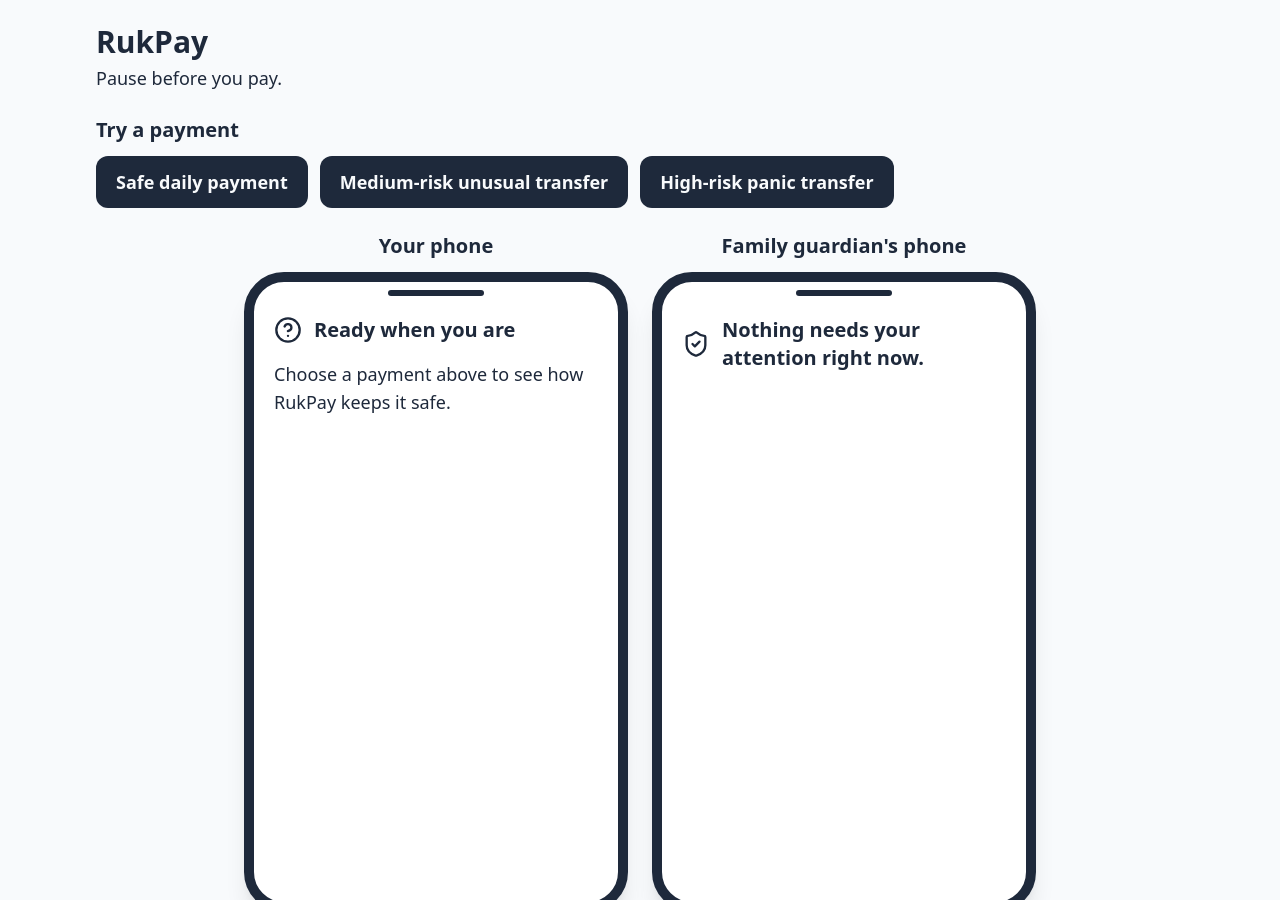
Test: App presets › the safe daily payment › shows the payee as a label and a masked identifier, and the amount in rupees
Click the button "Safe daily payment": (202, 182) [96,156,308,208]
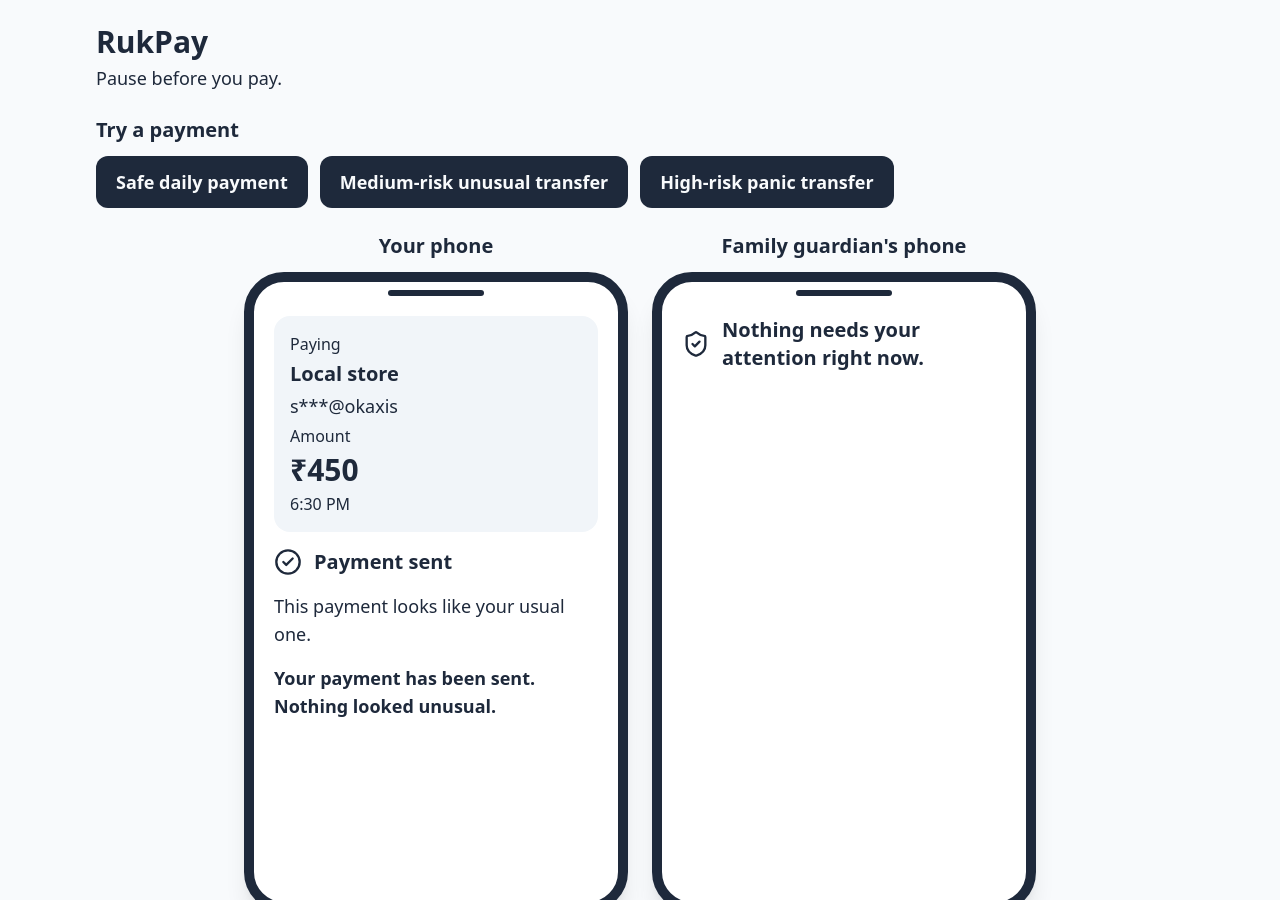
Expected: the text "Local store" is shown, [290,360,399,387]
Expected: the text "s***@okaxis" is shown, [290,394,398,418]
Expected: the text "₹450" is shown, [290,449,359,490]
